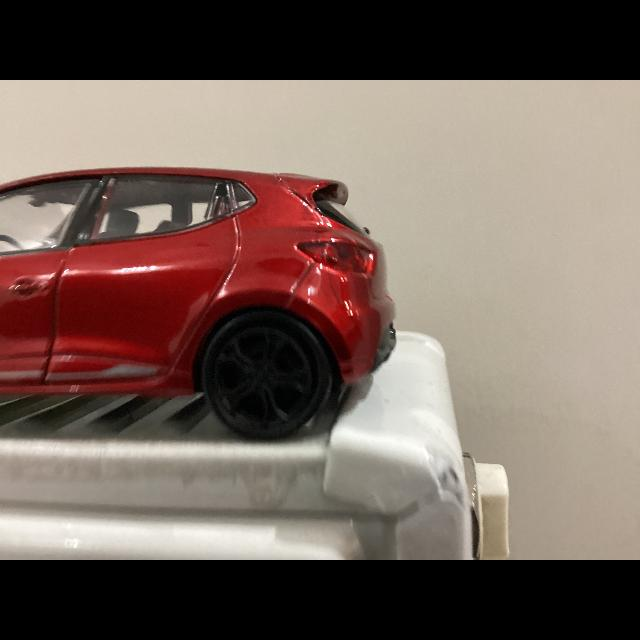Dogru_Jant: (213, 326, 313, 426)
